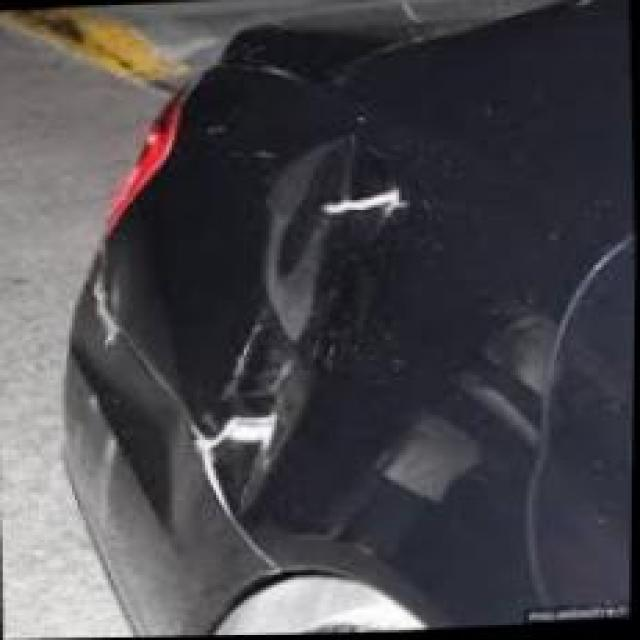Fender: (119, 103, 495, 571)
